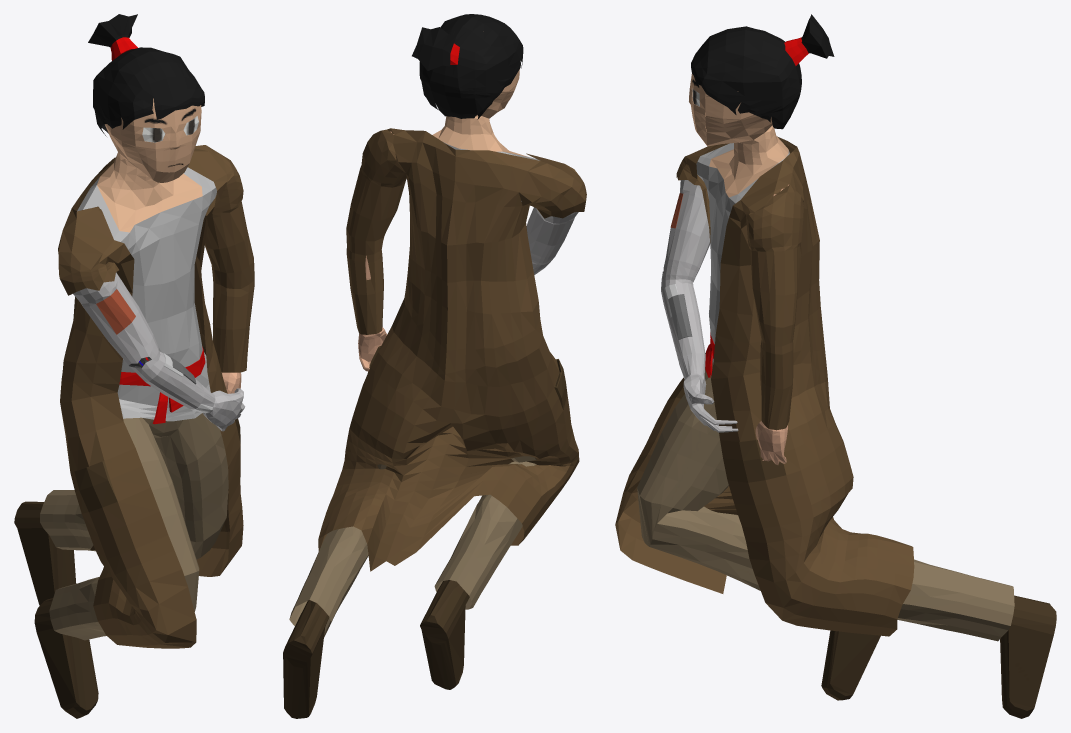
Rendered from One_Die_000004.obj.
3 renders of one model, left to right at view 1: azimuth 30°, elevation 25°; view 2: azimuth 150°, elevation 25°; view 3: azimuth 270°, elevation 25°, orthographic. The views are drawn at different scales.
Visible parts, largest first — view 1: Hair_Cube.004; view 2: Hair_Cube.004; view 3: Hair_Cube.004.
Boxes of the visible parts, box(x1,y1,x2,y2) form: Hair_Cube.004: box(14, 14, 254, 718); Hair_Cube.004: box(283, 14, 586, 718); Hair_Cube.004: box(615, 14, 1056, 718).
Bounding box in the file's own units: 1.18 × 3.5 × 2.02.
